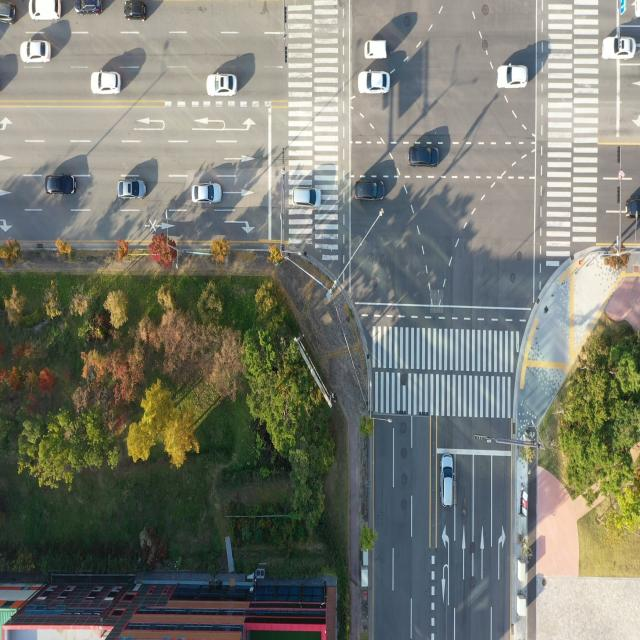car: (498, 59, 530, 93), (408, 141, 442, 172), (117, 173, 149, 203), (357, 69, 392, 96), (90, 67, 120, 98), (603, 33, 635, 61), (20, 36, 52, 64), (206, 73, 237, 100), (28, 0, 64, 23), (442, 455, 457, 510), (288, 186, 321, 210), (46, 174, 76, 197), (356, 179, 385, 202), (193, 182, 222, 204), (124, 0, 149, 23), (367, 36, 387, 64), (75, 0, 106, 17), (0, 0, 20, 26)
